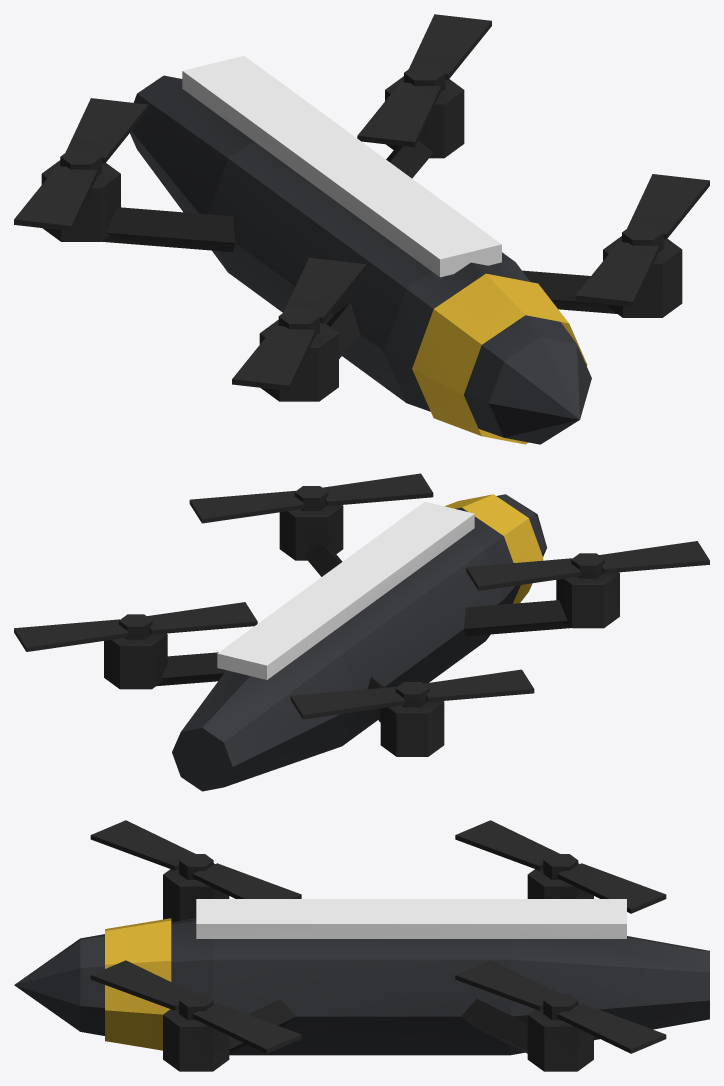
File: ua-sting.glb
3 views of the same model, one above another, from view 1: azimuth 30°, elevation 25°; view 2: azimuth 150°, elevation 25°; view 3: azimuth 270°, elevation 25° (orthographic). The views are drawn at different scales.
Parts seen in each view (by area): view 1: ua-sting, prop_0, prop_1, prop_3, prop_2; view 2: ua-sting, prop_2, prop_3, prop_1, prop_0; view 3: ua-sting, prop_2, prop_0, prop_3, prop_1.
Part boxes in pixels (left/top/right/bottom): ua-sting: left=41, top=56, right=682, bottom=444; prop_0: left=575, top=174, right=709, bottom=307; prop_1: left=232, top=257, right=366, bottom=390; prop_3: left=14, top=98, right=148, bottom=231; prop_2: left=357, top=14, right=491, bottom=147; ua-sting: left=104, top=494, right=619, bottom=791; prop_2: left=14, top=602, right=257, bottom=651; prop_3: left=290, top=669, right=534, bottom=719; prop_1: left=466, top=541, right=709, bottom=590; prop_0: left=189, top=473, right=433, bottom=523; ua-sting: left=14, top=863, right=709, bottom=1071; prop_2: left=455, top=960, right=666, bottom=1053; prop_0: left=90, top=960, right=301, bottom=1053; prop_3: left=455, top=820, right=666, bottom=913; prop_1: left=90, top=820, right=301, bottom=898.
Bounding box in the file's own units: 0.3273 × 0.094 × 0.42.
